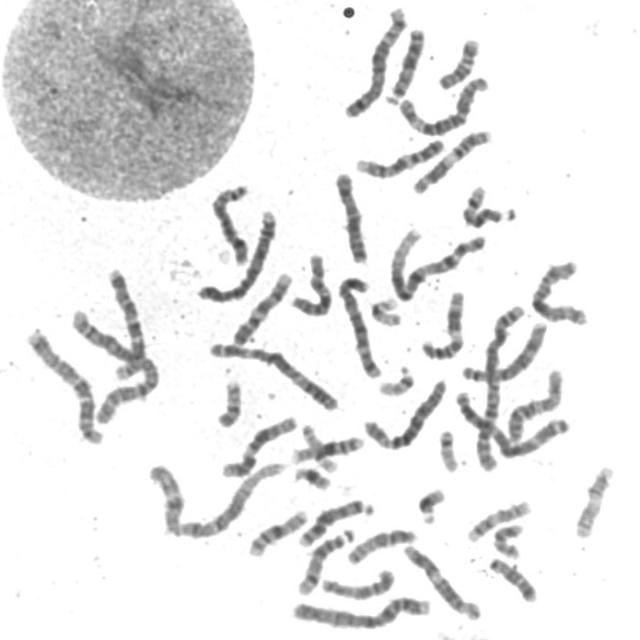A1: (143, 454, 286, 540), (384, 223, 488, 303)
A2: (66, 304, 162, 426), (472, 300, 530, 473)
A3: (204, 336, 342, 413), (450, 386, 573, 458)
B4: (192, 203, 280, 305), (287, 589, 435, 631)
B5: (340, 1, 411, 119), (333, 270, 385, 380)
C10: (501, 363, 567, 446), (286, 247, 335, 317)
C11: (408, 124, 495, 196), (417, 284, 470, 362)
C12: (399, 539, 485, 622), (218, 410, 300, 479)
C6: (360, 372, 450, 452), (393, 70, 492, 138)
C7: (20, 323, 107, 446), (103, 262, 148, 383)
C8: (456, 316, 551, 384), (206, 178, 254, 266)
C9: (228, 266, 296, 348), (352, 132, 448, 180)
D13: (294, 494, 376, 550), (380, 21, 429, 106)
D14: (294, 524, 357, 598), (458, 180, 520, 230)
D15: (342, 523, 420, 566), (316, 562, 398, 602)
E16: (244, 504, 311, 559), (286, 430, 368, 466)
E17: (571, 460, 618, 540), (463, 495, 534, 544)
E18: (485, 552, 541, 604), (434, 32, 483, 91)
F19: (296, 418, 342, 474), (366, 292, 404, 327)
F20: (212, 375, 246, 429), (489, 519, 526, 560)
G21: (412, 483, 448, 526), (289, 462, 335, 492)
G22: (374, 359, 417, 397), (435, 424, 462, 474)
X: (528, 255, 592, 327), (330, 166, 372, 266)
